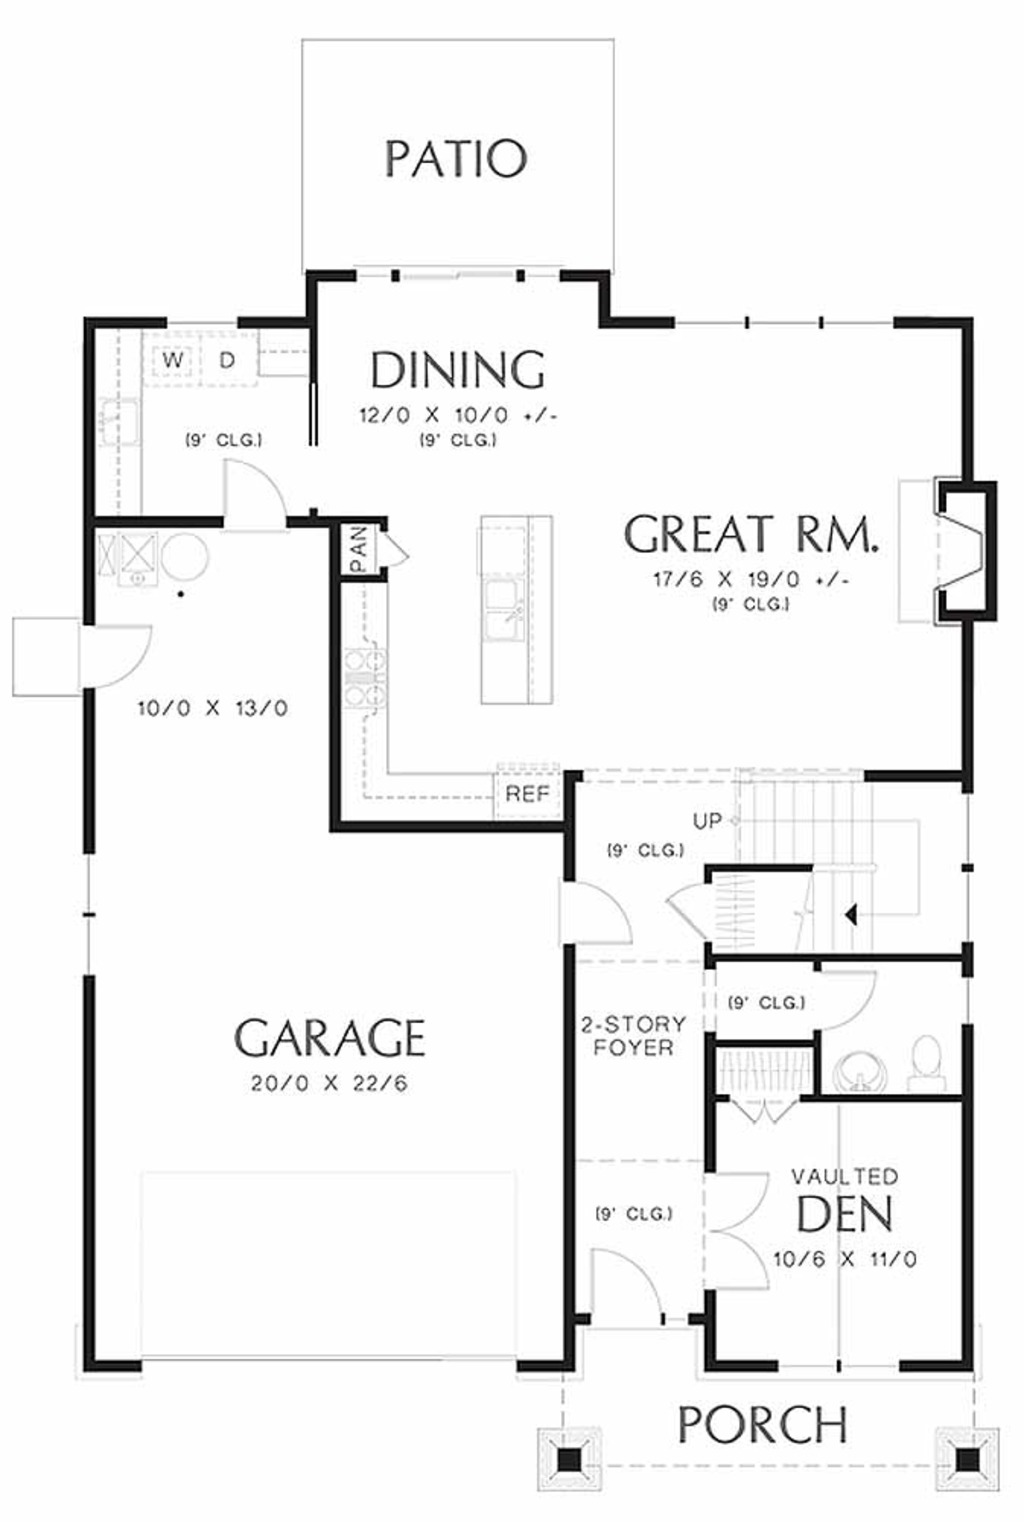door: (703, 1153, 779, 1303), (562, 1237, 677, 1333), (55, 615, 171, 700), (550, 862, 643, 962), (798, 969, 896, 1043), (222, 452, 298, 546), (669, 865, 727, 948), (712, 1084, 810, 1126), (374, 531, 407, 576)
kitchen_bar: (472, 516, 567, 715)
large_sink: (898, 1031, 957, 1105)
small_sink: (824, 1036, 912, 1094)
stairs: (741, 772, 984, 950)
twin_sink: (467, 550, 534, 668)
window: (357, 257, 584, 293), (69, 843, 112, 984), (677, 310, 888, 338)
